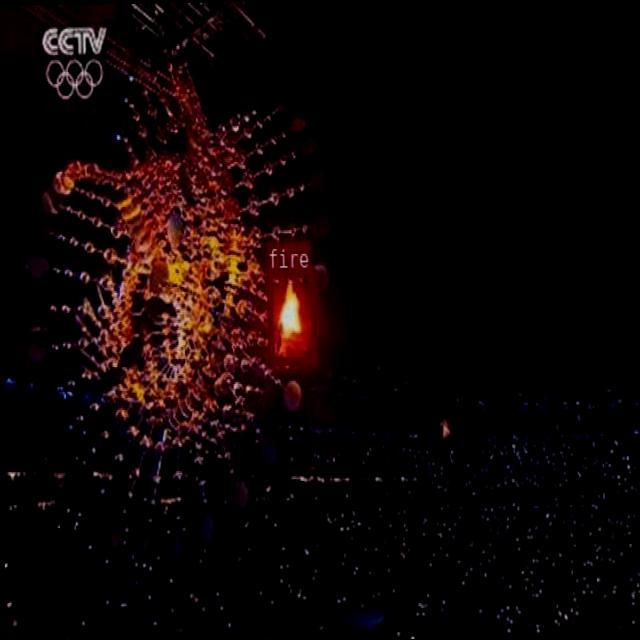fire: (266, 268, 316, 363)
